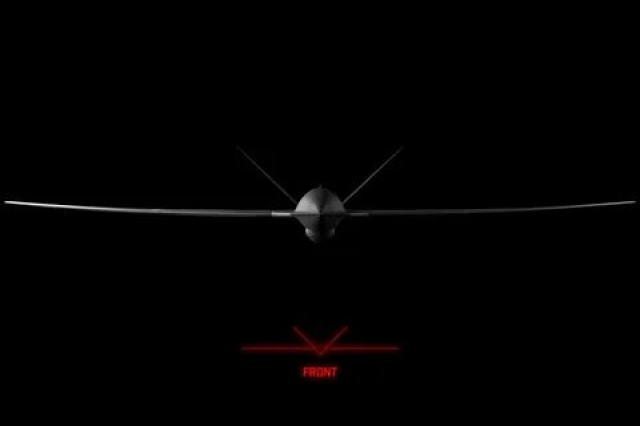military drone: (3, 146, 636, 244)
